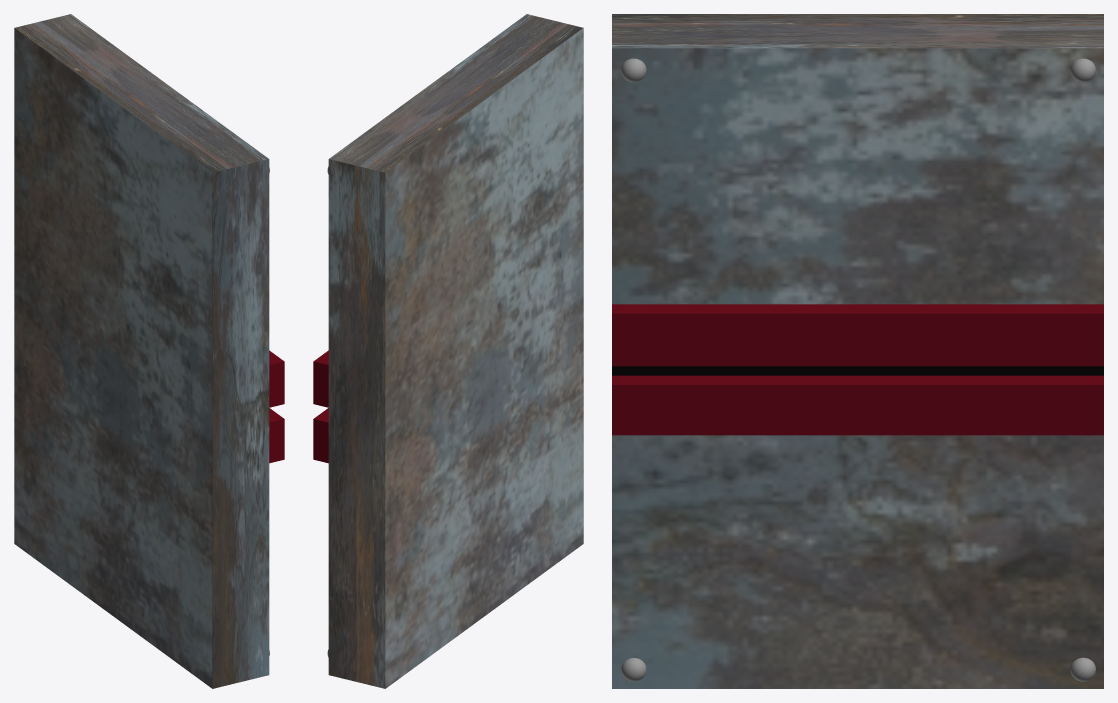
Rendered from serratura_magentica.fbx.
3 views of the same model, side by side, from view 1: azimuth 30°, elevation 25°; view 2: azimuth 150°, elevation 25°; view 3: azimuth 270°, elevation 25° (orthographic). The views are drawn at different scales.
Parts seen in each view (by area): view 1: Cube; view 2: Cube; view 3: Cube.
Boxes of the visible parts, x1,y1,x2,y2 form: Cube: (14, 14, 284, 688); Cube: (313, 14, 583, 688); Cube: (612, 14, 1103, 688).
Size of the model in its own units: 41.98 by 287 by 200.
Materials: 4 (1 with a texture image).
